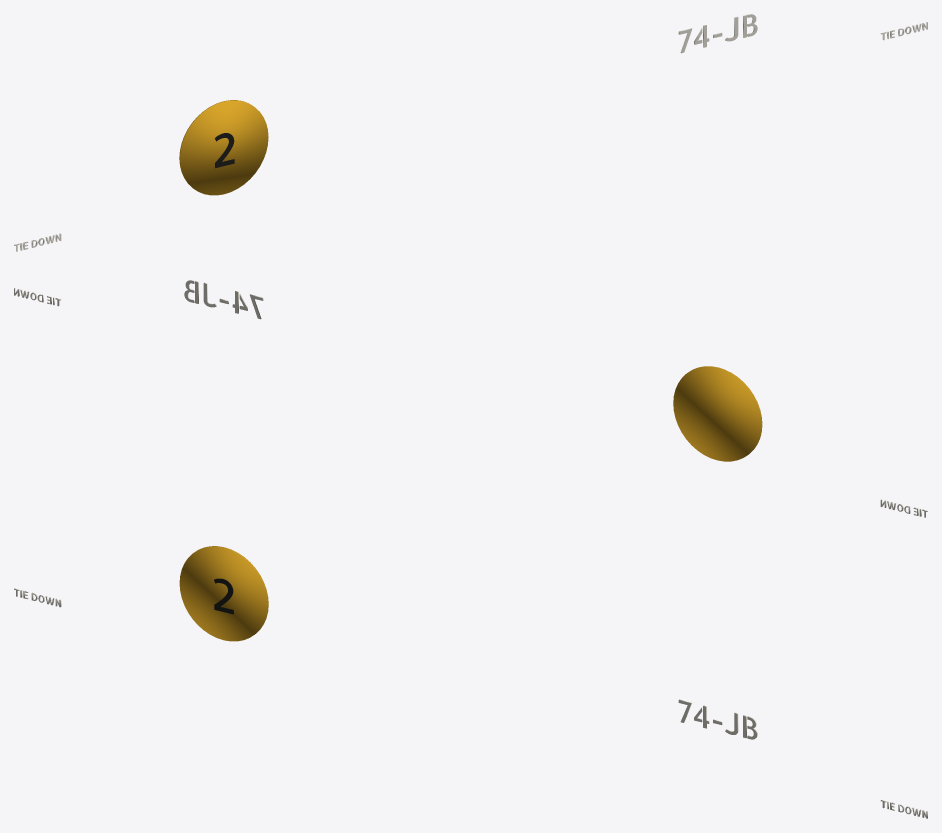
The model's file is stripe_stencil__frontBumper_taniguchi_square.glb.
3 renders of one model, top to bottom at view 1: azimuth 30°, elevation 25°; view 2: azimuth 150°, elevation 25°; view 3: azimuth 330°, elevation 25°, orthographic.
Visible parts, largest first — view 1: bridgeDisc, code0; view 2: bridgeDisc, code0; view 3: bridgeDisc, code0.
Boxes of the visible parts, <box> form: bridgeDisc: <box>179,100,268,195</box>; code0: <box>678,14,757,53</box>; bridgeDisc: <box>673,366,762,461</box>; code0: <box>184,280,263,319</box>; bridgeDisc: <box>179,546,268,641</box>; code0: <box>678,699,757,739</box>.
Bounding box in the file's own units: 0.9905 × 0.1031 × 0.002.
